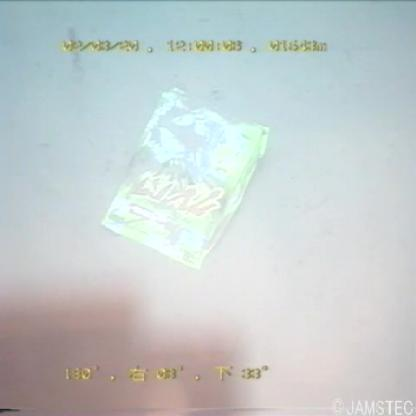Rác: (90, 78, 278, 286)
